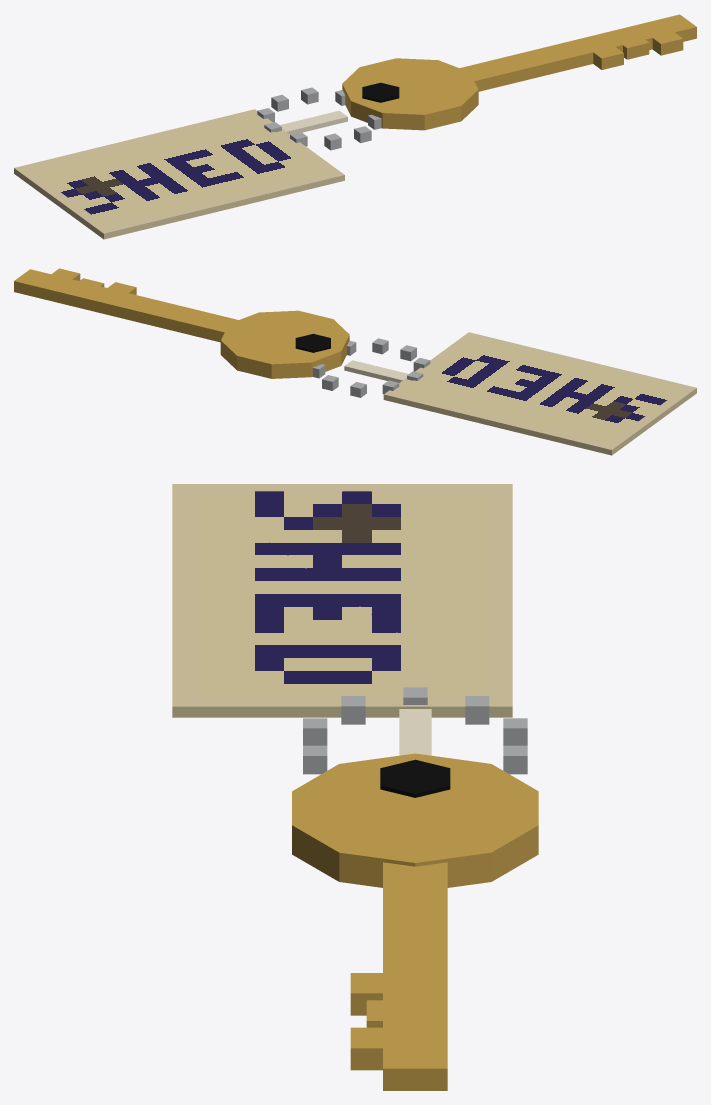
File: shed_key.glb
The picture shows the model from 3 angles, top to bottom: view 1: azimuth 30°, elevation 25°; view 2: azimuth 150°, elevation 25°; view 3: azimuth 270°, elevation 25°; orthographic projection. The views are drawn at different scales.
Parts seen in each view (by area): view 1: shed_key; view 2: shed_key; view 3: shed_key.
Part boxes in pixels (bbox=[...]): shed_key: bbox=[14, 14, 696, 239]; shed_key: bbox=[14, 268, 696, 455]; shed_key: bbox=[172, 484, 538, 1090].
Size of the model in its own units: 0.175 by 0.00455 by 0.0452.
Materials: 7 (1 with a texture image).
